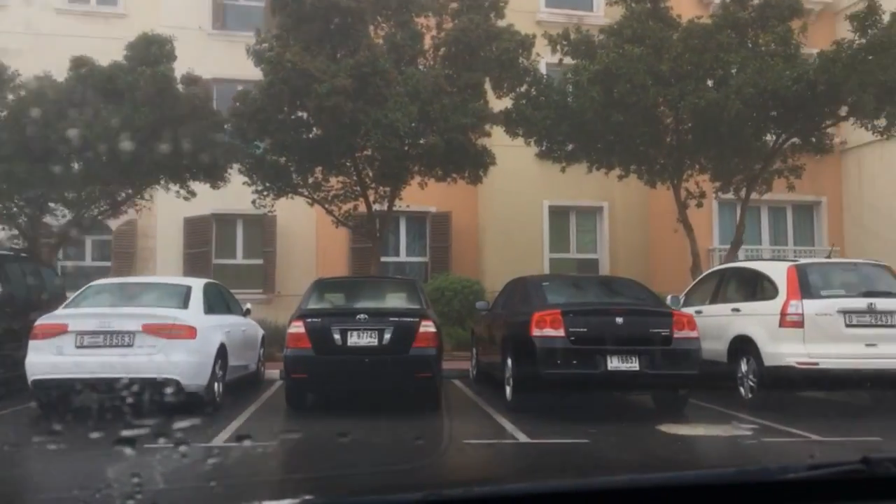car: (649, 242, 894, 409), (21, 273, 270, 419), (464, 272, 705, 419), (280, 272, 445, 418)
